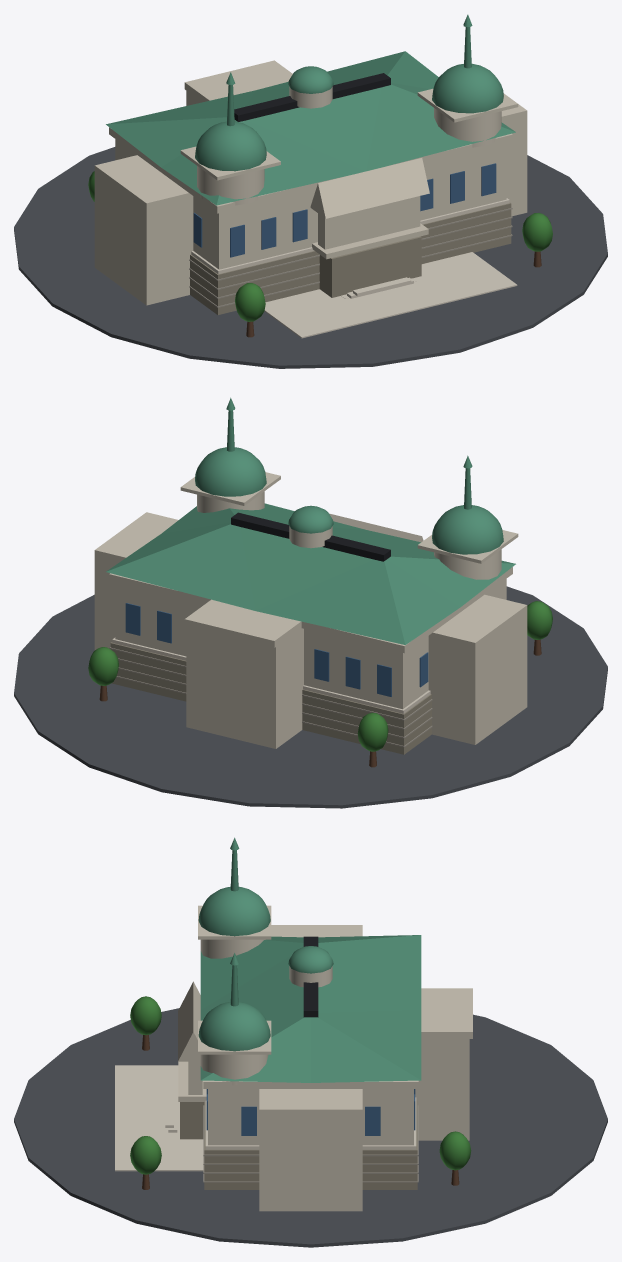
File: bank-of-korea.glb
3 views of the same model, one above another, from view 1: azimuth 30°, elevation 25°; view 2: azimuth 150°, elevation 25°; view 3: azimuth 270°, elevation 25° (orthographic).
Size of the model in its own units: 57.6 by 24.32 by 57.6.
